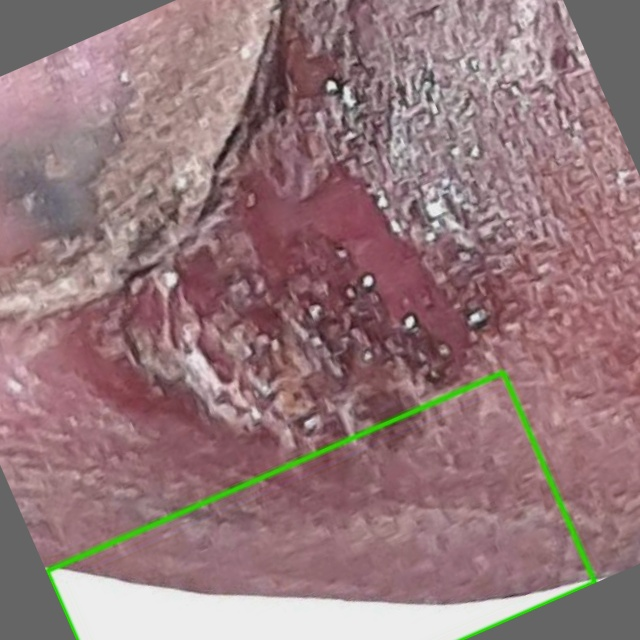Eczema: (46, 372, 594, 639)
